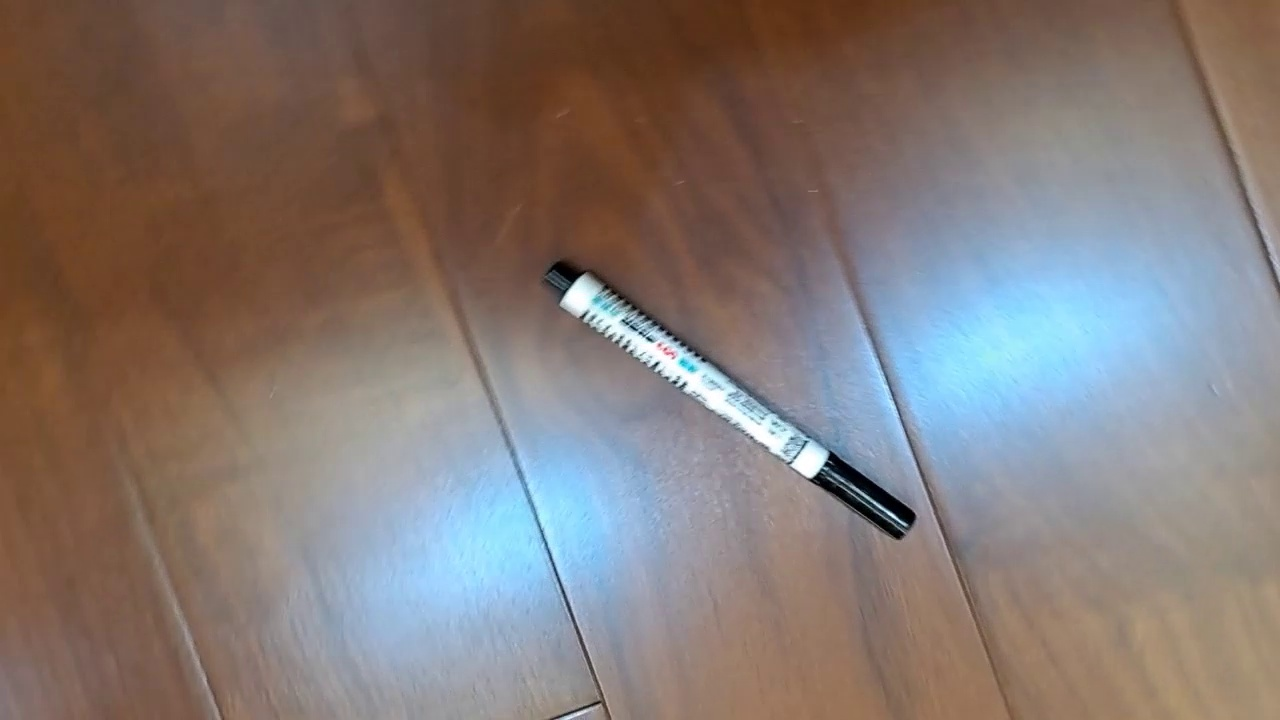pen: (540, 259, 917, 541)
